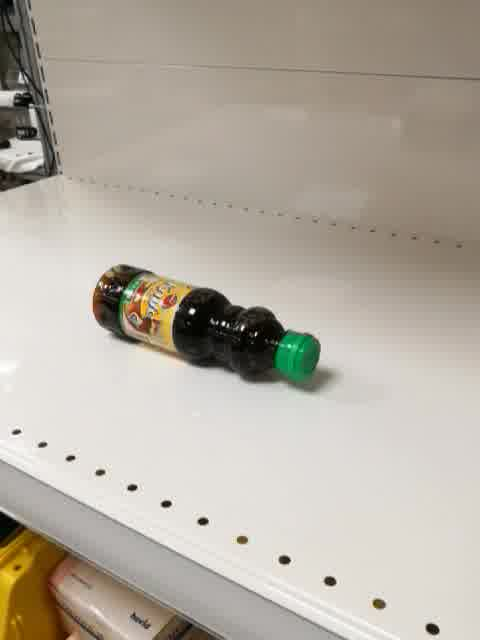cookingoil: (90, 263, 324, 387)
